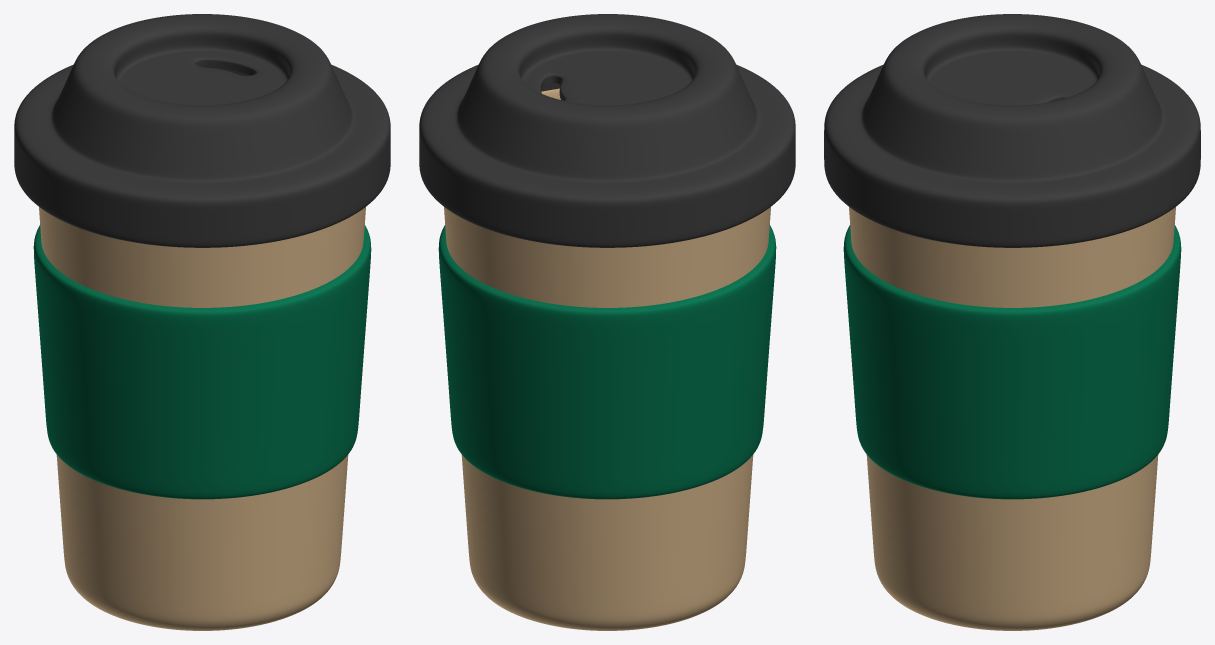
File: takeaway-cup.fbx
3 renders of one model, left to right at view 1: azimuth 30°, elevation 25°; view 2: azimuth 150°, elevation 25°; view 3: azimuth 270°, elevation 25°, orthographic.
Parts seen in each view (by area): view 1: takeaway; view 2: takeaway; view 3: takeaway.
Boxes of the visible parts, x1=… form: takeaway: x1=14, y1=14, x2=390, y2=630; takeaway: x1=419, y1=14, x2=795, y2=630; takeaway: x1=824, y1=14, x2=1200, y2=630.
Size of the model in its own units: 128 by 194 by 128.
